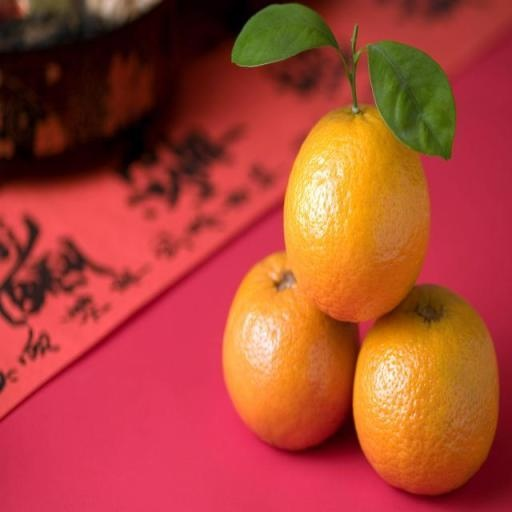fruit: (272, 181, 432, 512), (378, 116, 474, 396), (481, 202, 511, 512)
